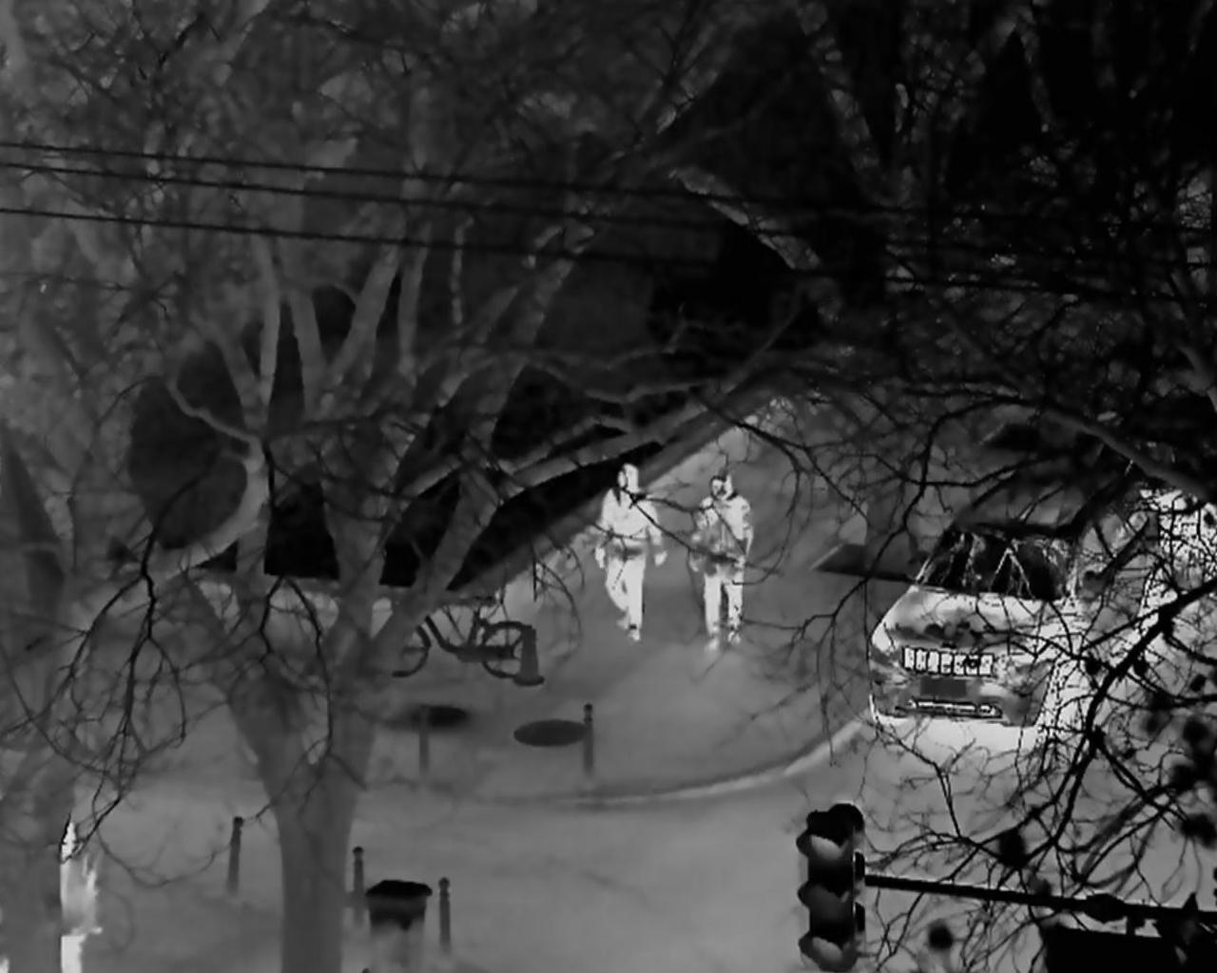person: (592, 461, 667, 644), (686, 467, 753, 649), (58, 818, 103, 973)
